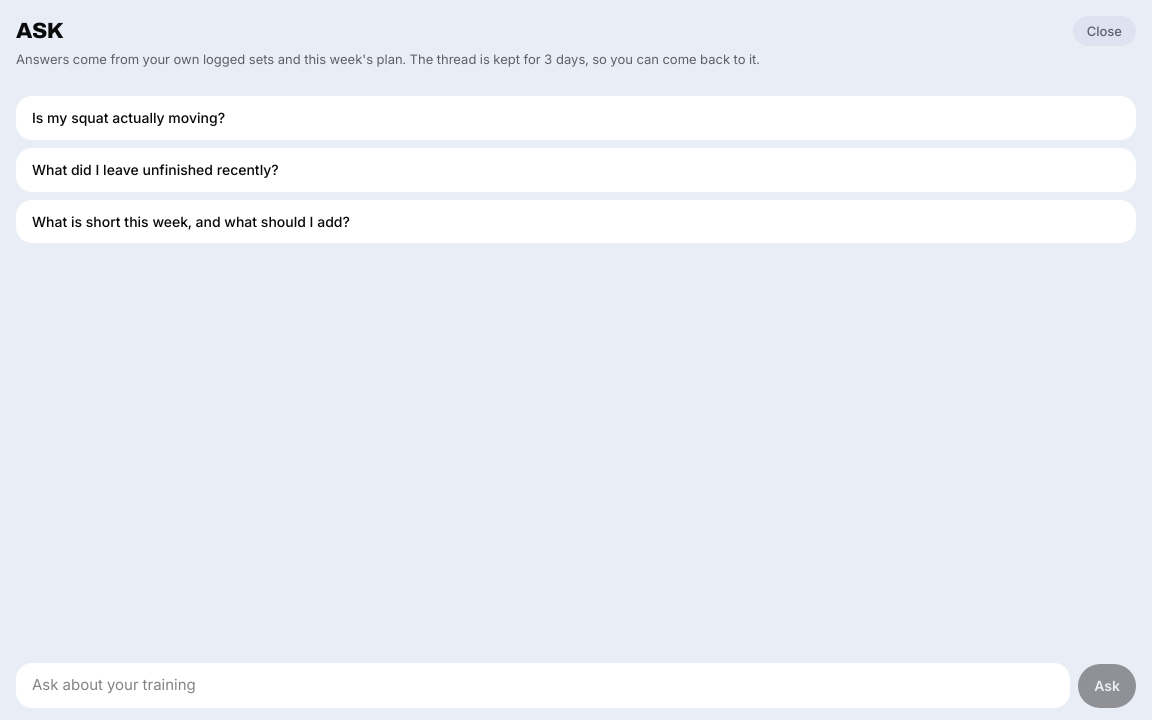
typing a long question › sends on Enter, the way the single-line box used to
This screenshot has width=1152, height=720.
Type "is my squat moving?" into the text box labelled "Ask about your training". click: (543, 686)
box: [16, 663, 1070, 708]
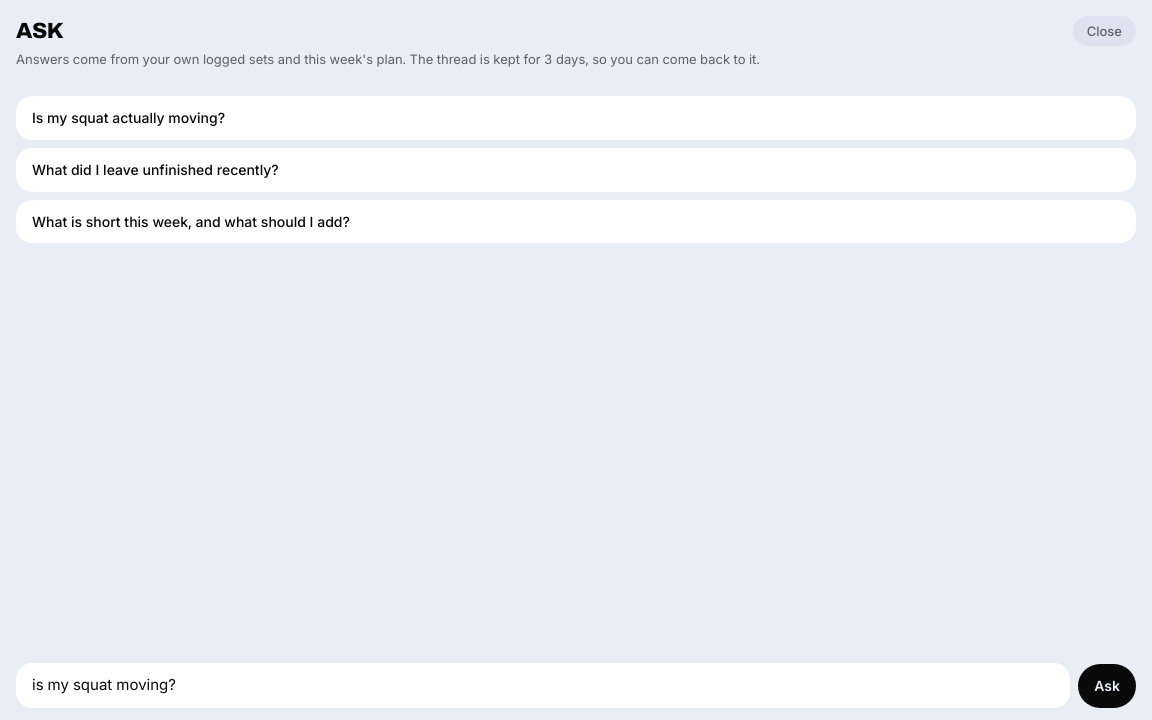
Press Enter
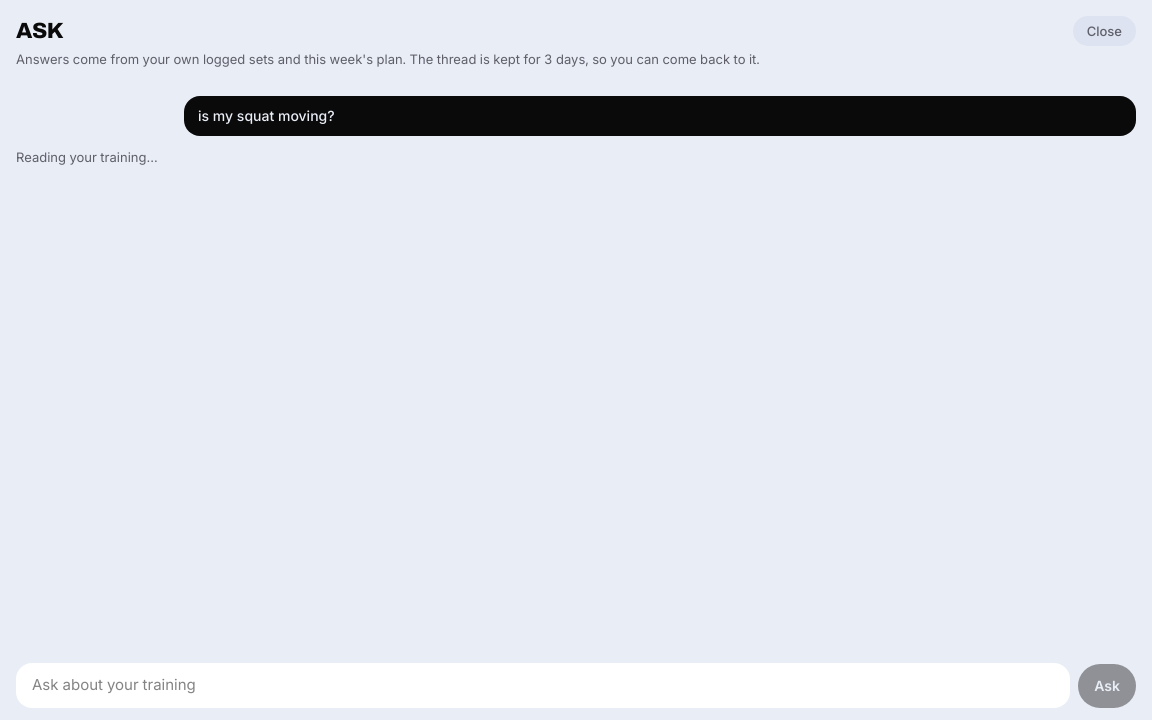
Expected: the text "is my squat moving?" is shown, [184, 96, 1136, 136]
Expected: the text box labelled "Ask about your training" is empty, [16, 663, 1070, 708]
